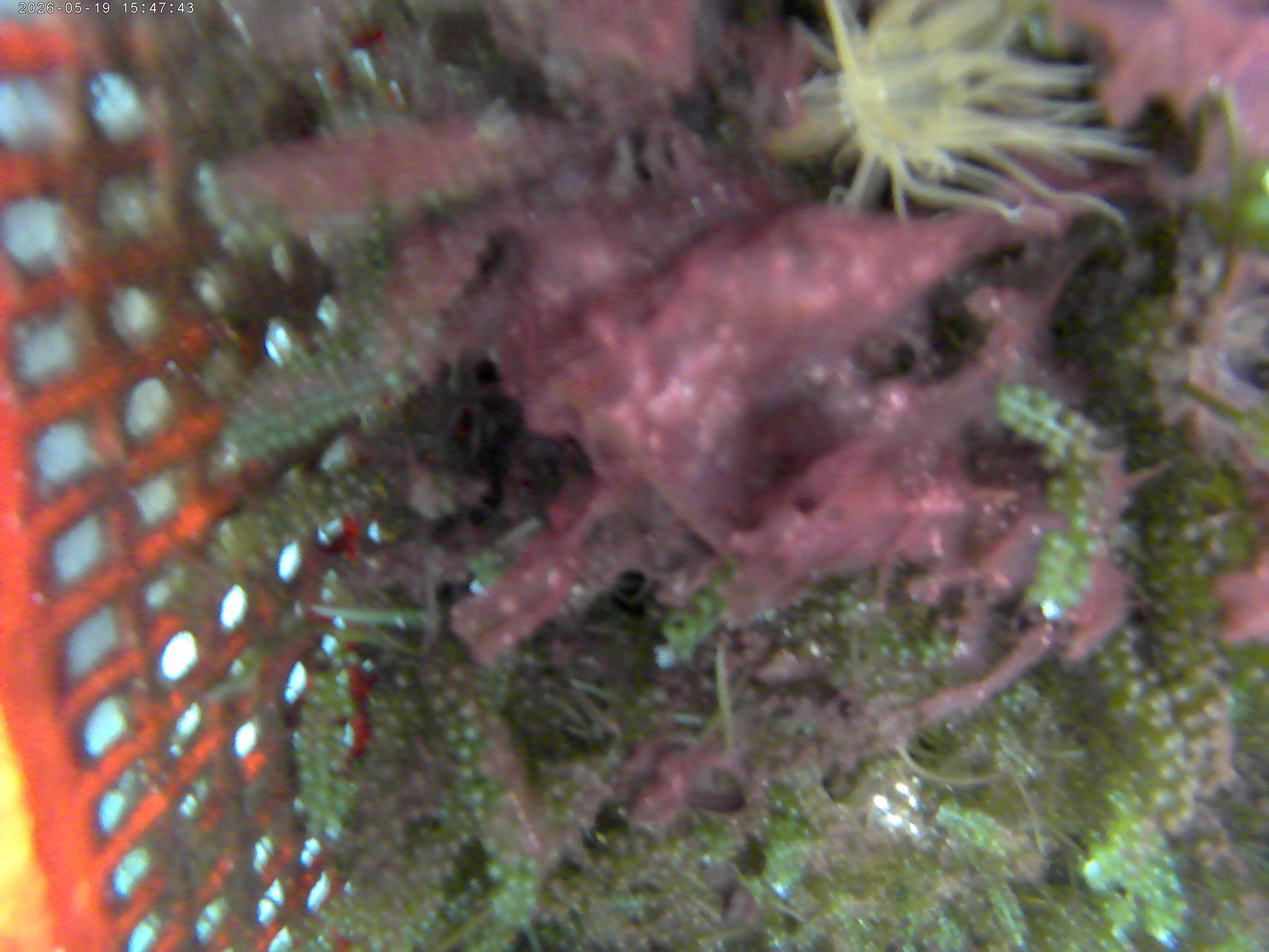Darkening: (1171, 295, 1199, 323), (1157, 327, 1180, 352), (499, 596, 518, 616), (651, 686, 669, 705), (430, 696, 447, 713), (444, 727, 460, 744), (444, 687, 461, 703)
Harvestable: (1239, 194, 1269, 231), (1149, 784, 1178, 813), (1160, 728, 1186, 756), (1243, 662, 1269, 689), (1156, 760, 1181, 785), (1147, 688, 1172, 713), (1124, 677, 1146, 701), (1104, 669, 1126, 692), (1059, 584, 1081, 607), (1124, 700, 1148, 721), (1069, 512, 1090, 534), (1151, 712, 1173, 732), (1123, 655, 1144, 675), (1064, 411, 1085, 431), (1048, 495, 1070, 514), (1136, 328, 1156, 348), (1079, 536, 1099, 556), (307, 819, 326, 839), (487, 861, 506, 881), (383, 368, 402, 388), (263, 431, 283, 450), (467, 786, 486, 806), (296, 422, 316, 441), (1099, 654, 1119, 673), (312, 788, 333, 806), (1177, 805, 1196, 824), (1171, 898, 1190, 917), (312, 671, 330, 690), (250, 441, 268, 460), (456, 743, 474, 761), (463, 724, 481, 742), (520, 875, 538, 893), (313, 740, 330, 759), (308, 691, 326, 708), (522, 893, 538, 911), (458, 763, 474, 780), (299, 709, 314, 727), (331, 685, 350, 699), (329, 656, 348, 670), (333, 797, 348, 814), (344, 650, 359, 667), (298, 749, 313, 765), (331, 726, 347, 741), (298, 765, 313, 781), (335, 670, 350, 686), (1145, 669, 1160, 685), (369, 935, 384, 951), (308, 803, 322, 820), (293, 736, 311, 749), (326, 812, 341, 827), (473, 807, 488, 822), (336, 779, 350, 795), (312, 650, 329, 663), (342, 701, 356, 716), (998, 695, 1012, 710), (298, 728, 315, 740), (327, 703, 340, 718), (293, 798, 306, 813), (302, 780, 316, 793), (318, 774, 332, 787), (1010, 703, 1023, 717), (313, 724, 329, 735), (362, 659, 374, 672), (317, 759, 327, 774)
Whitening: (887, 814, 902, 827), (874, 796, 887, 809)
